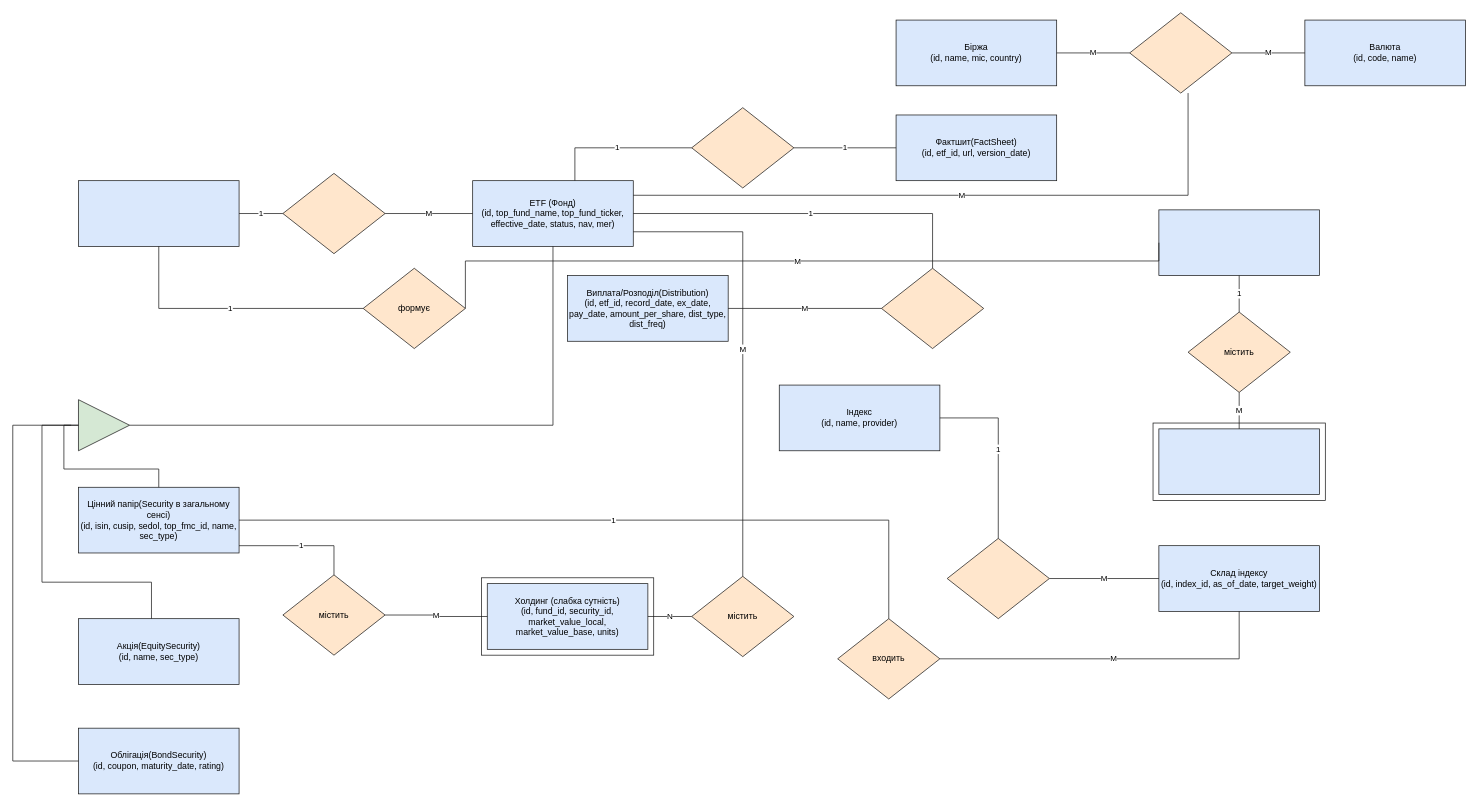
Image size: 1478x807. Some labels were removed from this diagram. The shapes that lost their labels are listed below. From the top down, each one's centre as x and y in pixels, then its label:
[1180,52]: Лістинг (по ticker, is_primary)
[742,147]: має
[158,213]: Банк (id, name, swift, address)
[333,213]: випускає
[1238,242]: Рейтинговий список від Банку (id, bank_id, name, published_at, notes)
[932,308]: виплачує
[1238,461]: Елемент рейтингу (слабка) (id, toplist_id, fund_id, rank, category)
[997,578]: має склад
